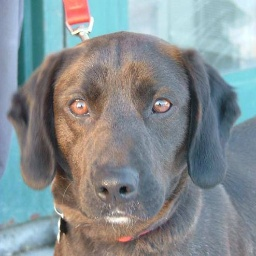dog: (10, 30, 256, 256)
